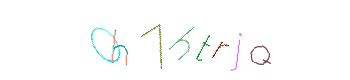0: (65, 0, 145, 80)
7: (130, 0, 210, 80)
H: (116, 0, 196, 80), (135, 0, 215, 80)
J: (176, 0, 256, 80)
Q: (197, 0, 277, 80)
R: (140, 0, 220, 80)
T: (137, 0, 217, 80)
